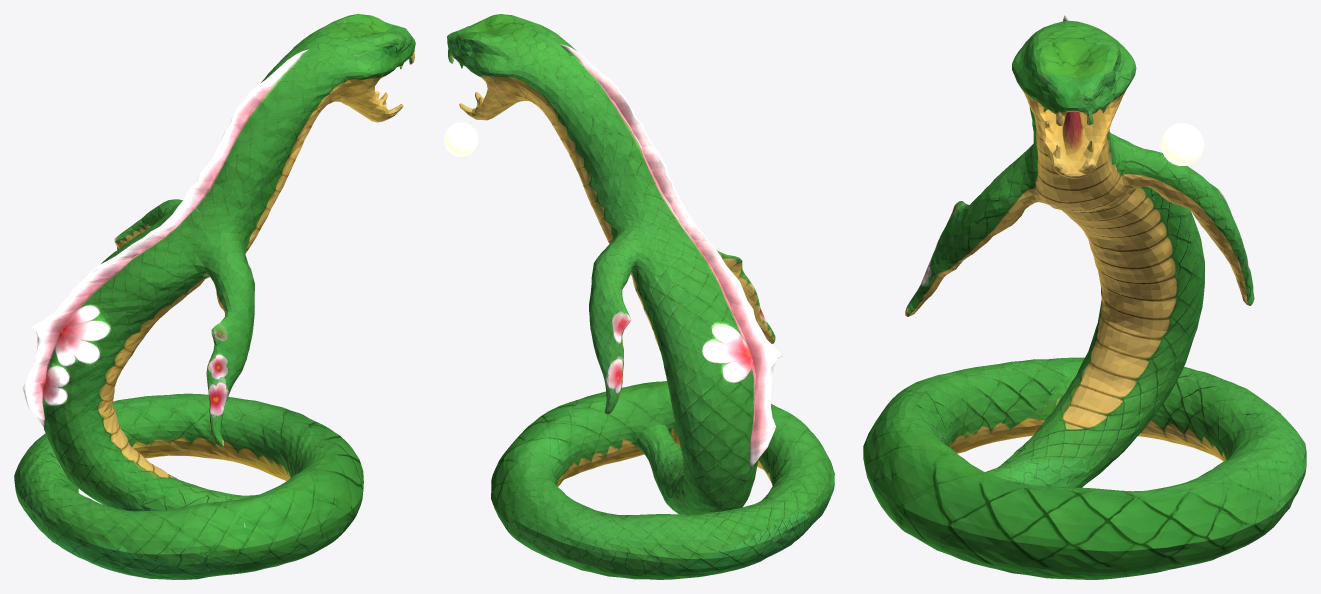
File: serpent_bloom.glb
3 views of the same model, side by side, from view 1: azimuth 30°, elevation 25°; view 2: azimuth 150°, elevation 25°; view 3: azimuth 270°, elevation 25° (orthographic). The views are drawn at different scales.
Parts seen in each view (by area): view 1: body; view 2: body, eye; view 3: body, eye.
Part boxes in pixels (left/top/right/bottom): body: left=14, top=14, right=415, bottom=579; body: left=447, top=14, right=834, bottom=579; eye: left=444, top=122, right=478, bottom=156; body: left=863, top=14, right=1306, bottom=579; eye: left=1161, top=123, right=1203, bottom=165.
Size of the model in its own units: 1.69 by 2 by 1.43.
2 materials, 1 textured.
